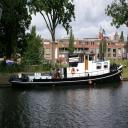tugboat: (8, 52, 125, 91)
